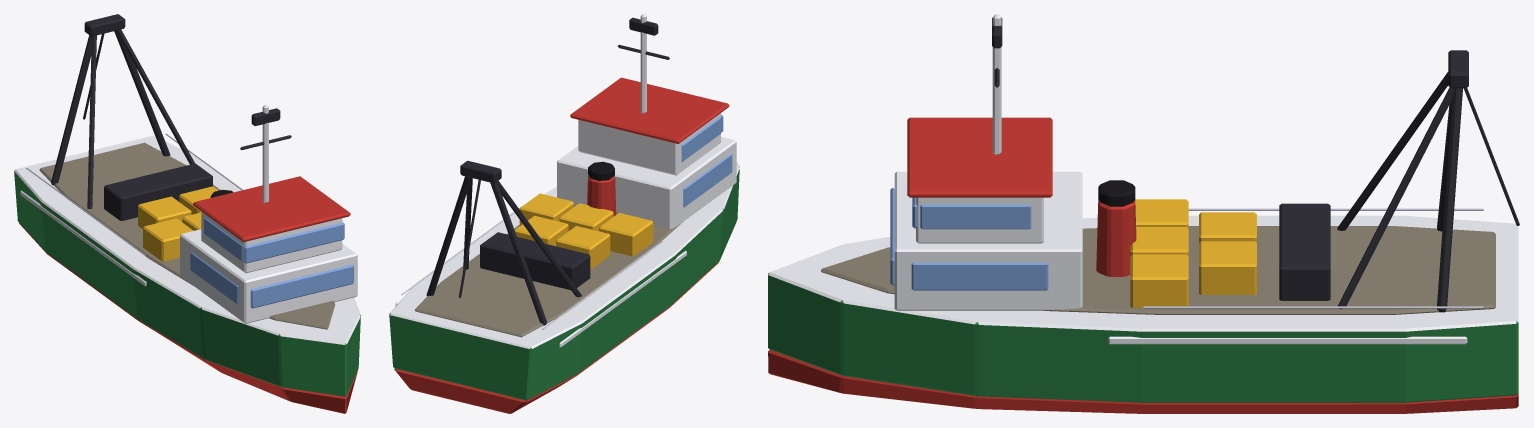
Rendered from trawler-large.glb.
3 views of the same model, side by side, from view 1: azimuth 30°, elevation 25°; view 2: azimuth 150°, elevation 25°; view 3: azimuth 270°, elevation 25° (orthographic). The views are drawn at different scales.
Parts seen in each view (by area): view 1: TrawlerLarge; view 2: TrawlerLarge; view 3: TrawlerLarge.
Part boxes in pixels (x1,y1,x2,y2): TrawlerLarge: [14, 14, 360, 413]; TrawlerLarge: [389, 14, 739, 413]; TrawlerLarge: [768, 14, 1519, 413].
Size of the model in its own units: 1.59 by 2.32 by 4.4.
Materials: 1 (1 with a texture image).
